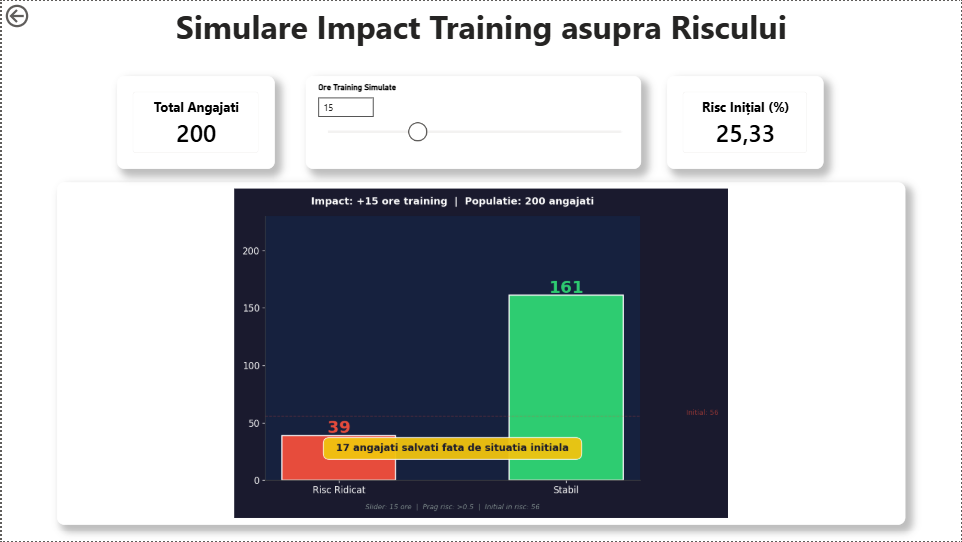

This screenshot's page, from the dashboard's own definition file:
{"tool":"powerbi","page":{"name":"Simulare Impact Training asupra Riscului","canvas":[1280,720],"ordinal":10},"visuals":[{"type":"slicer","fields":{"Values":["Simulare_Training.Simulare_Training"]},"box":[404.3,100,447.1,124.3],"z":0},{"type":"pythonVisual","fields":{"Values":["date_angajati.ID_Angajat","date_angajati.Training_Ore","date_angajati.Risc_Plecare_Scor","Simulare_Training.Simulare_Training Value","date_angajati.Ore_Lucrate","date_angajati.Feedback_Clienti","date_angajati.Data.Variation.Date Hierarchy.Year"]},"box":[72.9,241.4,1131.4,457.1],"z":1000},{"type":"textbox","box":[72.9,0,1131.4,80],"z":2000},{"type":"cardVisual","fields":{"Data":["Count(date_angajati.ID_Angajat)"]},"box":[152.9,100,210,124.3],"z":3000},{"type":"cardVisual","fields":{"Data":["date_angajati.Procent_Risc"]},"box":[887.1,100,208.6,124.3],"z":4000},{"type":"actionButton","box":[0,0,100,40],"z":5000}]}

Visuals, with their boxes on the page's 1280x720 design canvas (x1, y1, x2, y2). These are canvas units, not pixel positions in the 962x542 screenshot, which may show the page scaled, cropped or inside an application window:
slicer - Simulare_Training.Simulare_Training: detection(404, 100, 851, 224)
pythonVisual - date_angajati.ID_Angajat x date_angajati.Training_Ore: detection(73, 241, 1204, 698)
textbox: detection(73, 0, 1204, 80)
cardVisual - Count(date_angajati.ID_Angajat): detection(153, 100, 363, 224)
cardVisual - date_angajati.Procent_Risc: detection(887, 100, 1096, 224)
actionButton: detection(0, 0, 100, 40)
